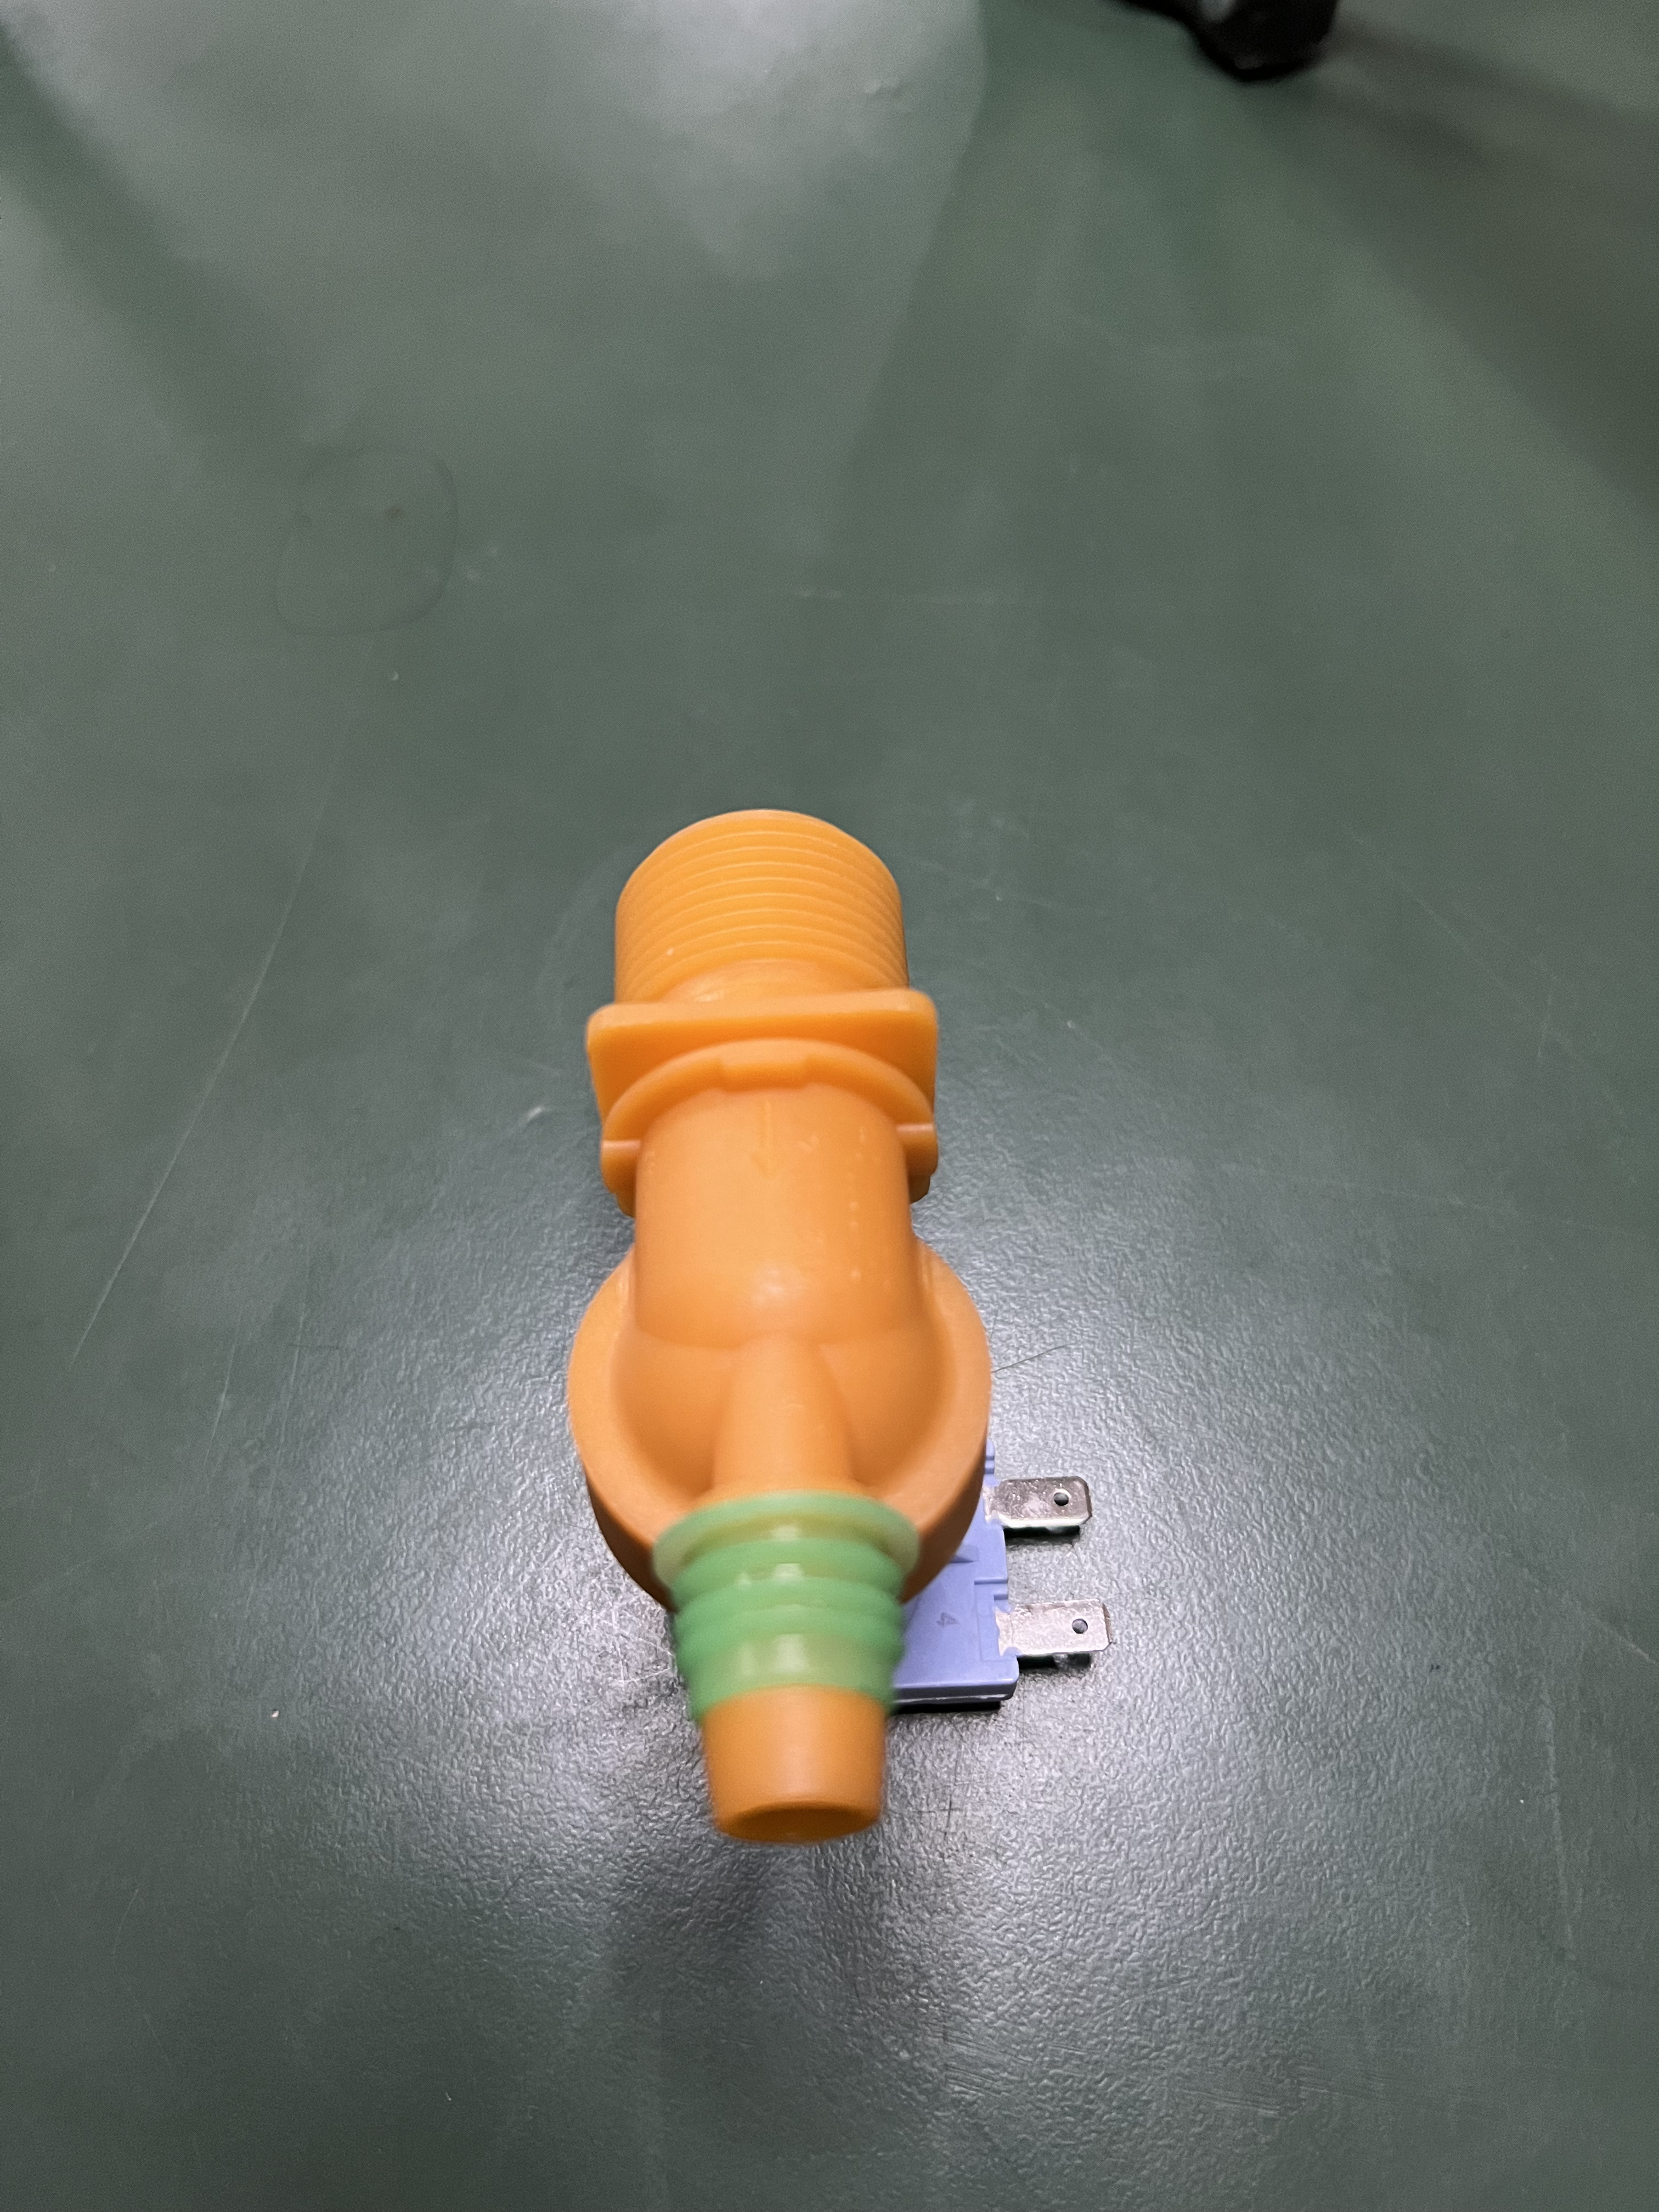ss_inlet_valves: (430, 711, 1131, 1838)
